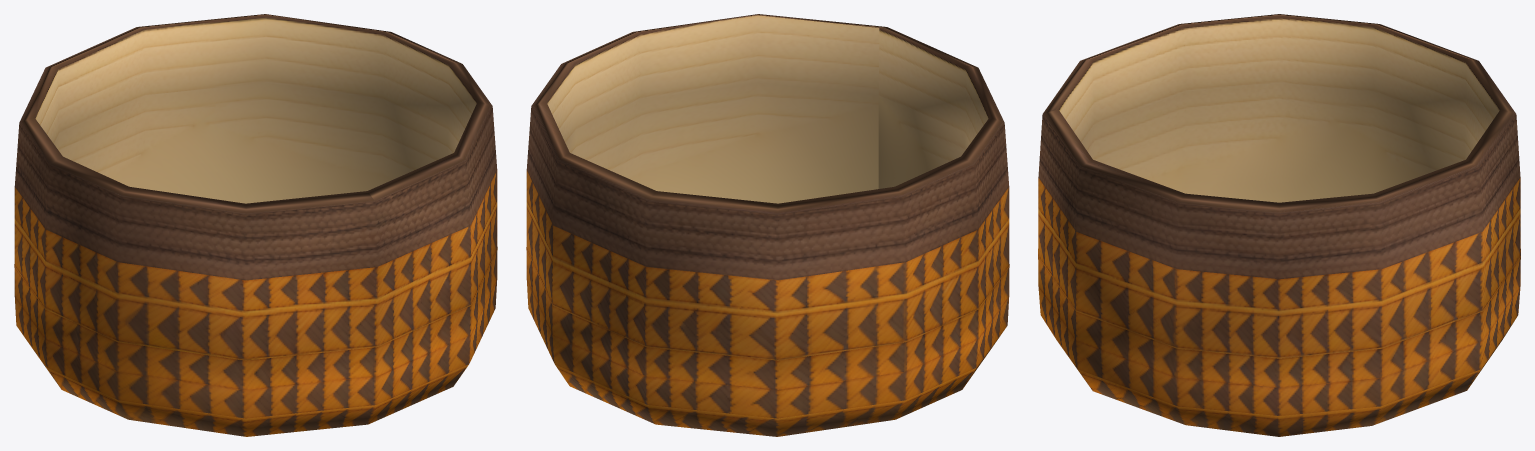
Rendered from Canasta.fbx.
3 views of the same model, side by side, from view 1: azimuth 30°, elevation 25°; view 2: azimuth 150°, elevation 25°; view 3: azimuth 270°, elevation 25° (orthographic).
Parts seen in each view (by area): view 1: mesh_rep_0_ori_repair_quad; view 2: mesh_rep_0_ori_repair_quad; view 3: mesh_rep_0_ori_repair_quad.
Boxes of the visible parts, <box> form: mesh_rep_0_ori_repair_quad: <box>14,14,497,436</box>; mesh_rep_0_ori_repair_quad: <box>526,14,1009,436</box>; mesh_rep_0_ori_repair_quad: <box>1038,14,1520,436</box>.
Size of the model in its own units: 48.04 by 25.59 by 48.04.
